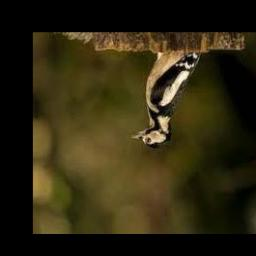Woodpecker: (129, 52, 201, 148)
